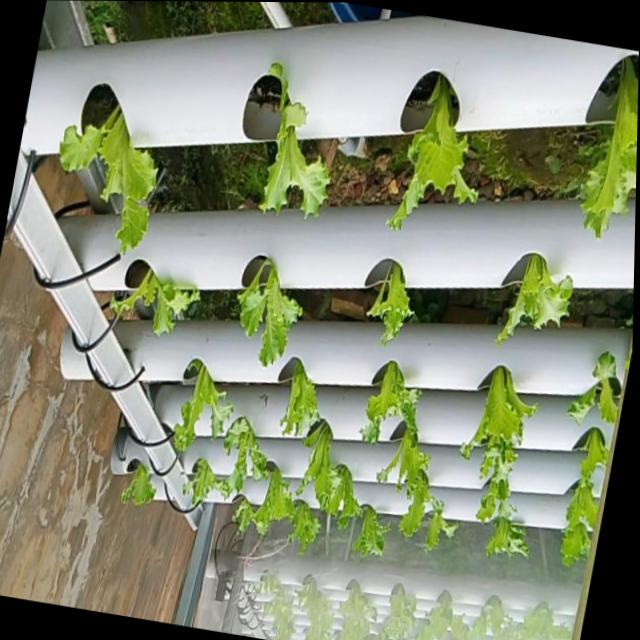Baby: (62, 96, 160, 244), (388, 67, 477, 223), (261, 54, 331, 208), (580, 50, 639, 230), (238, 255, 302, 363), (496, 250, 571, 341), (107, 266, 199, 334), (376, 421, 441, 517), (173, 357, 233, 449), (295, 417, 351, 513), (348, 480, 408, 564), (469, 364, 531, 444), (232, 464, 293, 536), (220, 414, 269, 495), (566, 350, 620, 423), (362, 359, 408, 441), (368, 259, 413, 342), (479, 420, 522, 506), (279, 356, 319, 434), (561, 481, 598, 560), (181, 456, 229, 509), (416, 496, 460, 552), (286, 500, 321, 555), (485, 517, 528, 558), (119, 465, 155, 507)
